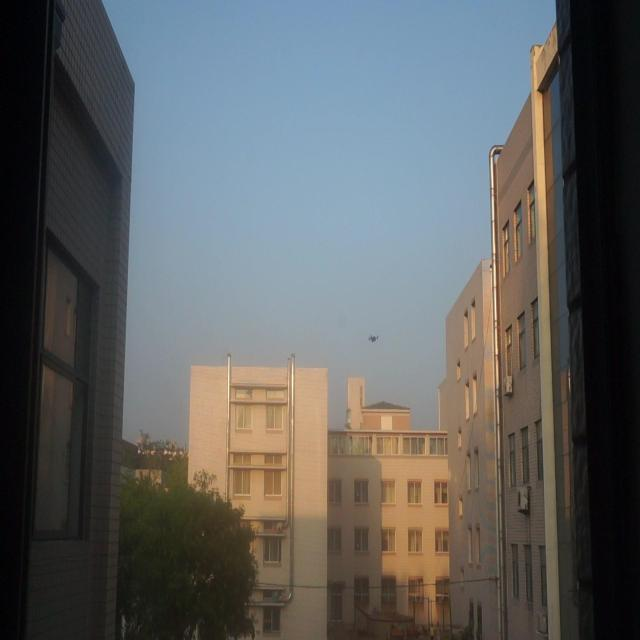drone: (362, 326, 385, 352)
